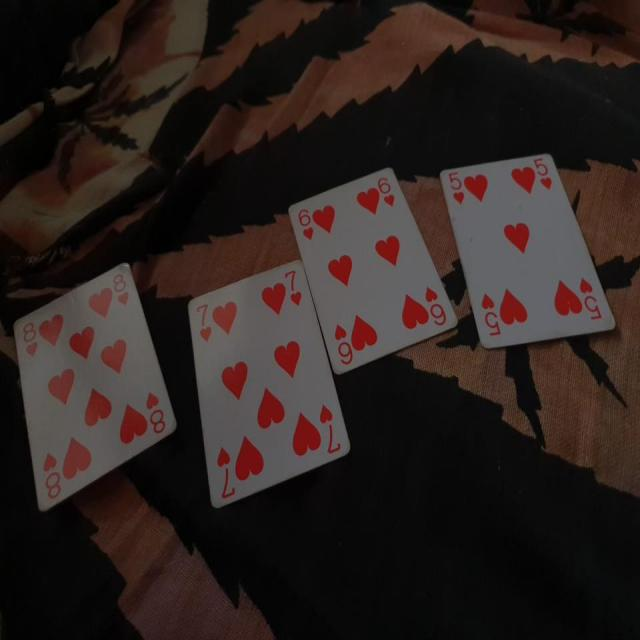5 Hearts: (438, 144, 620, 351)
6 Hearts: (280, 160, 457, 375)
7 Hearts: (181, 252, 356, 518)
8 Hearts: (12, 260, 187, 518)
